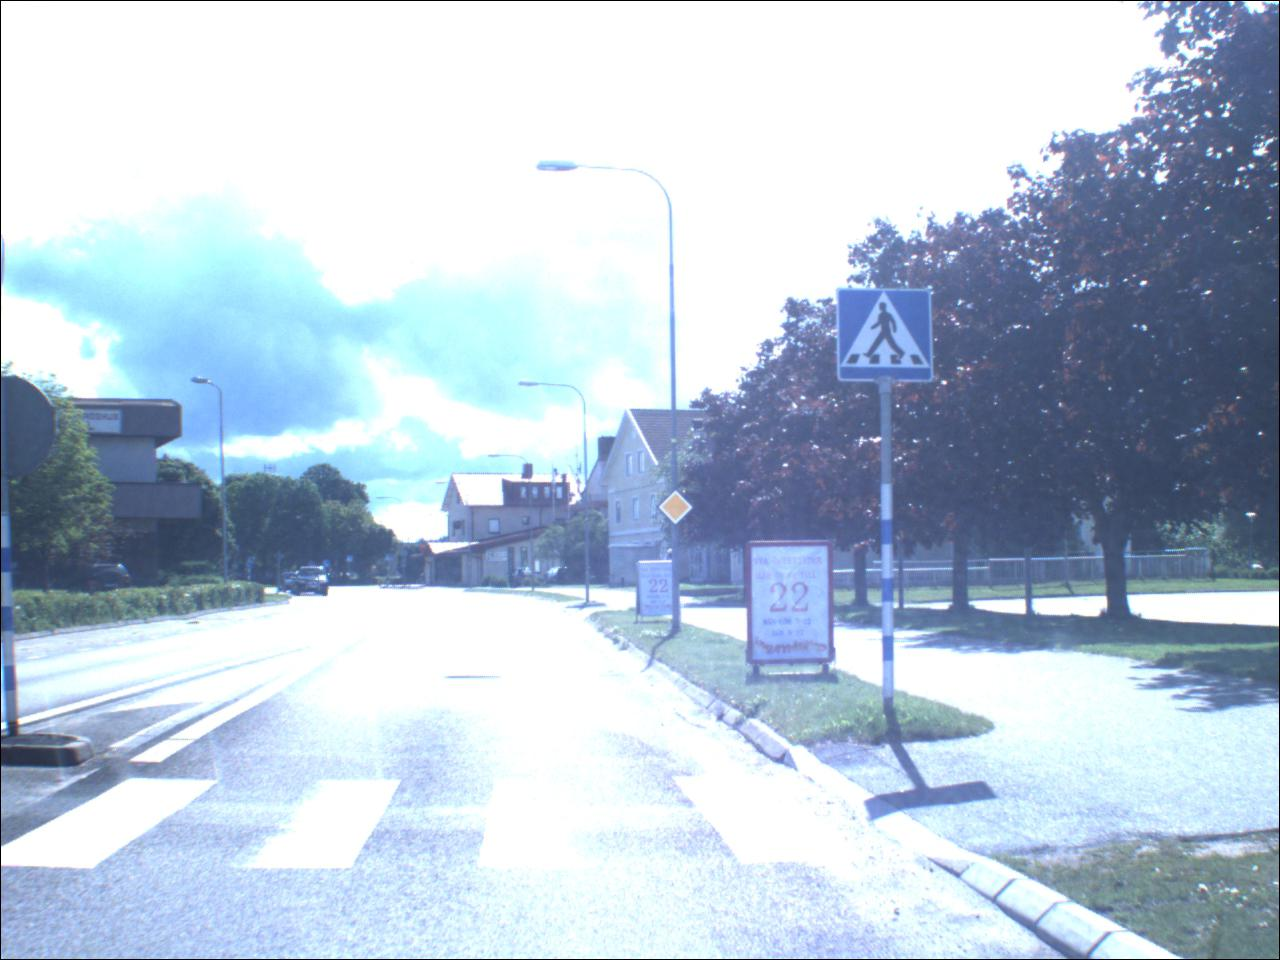PEDESTRIAN_CROSSING: (839, 290, 934, 383)
PRIORITY_ROAD: (658, 492, 696, 528)
